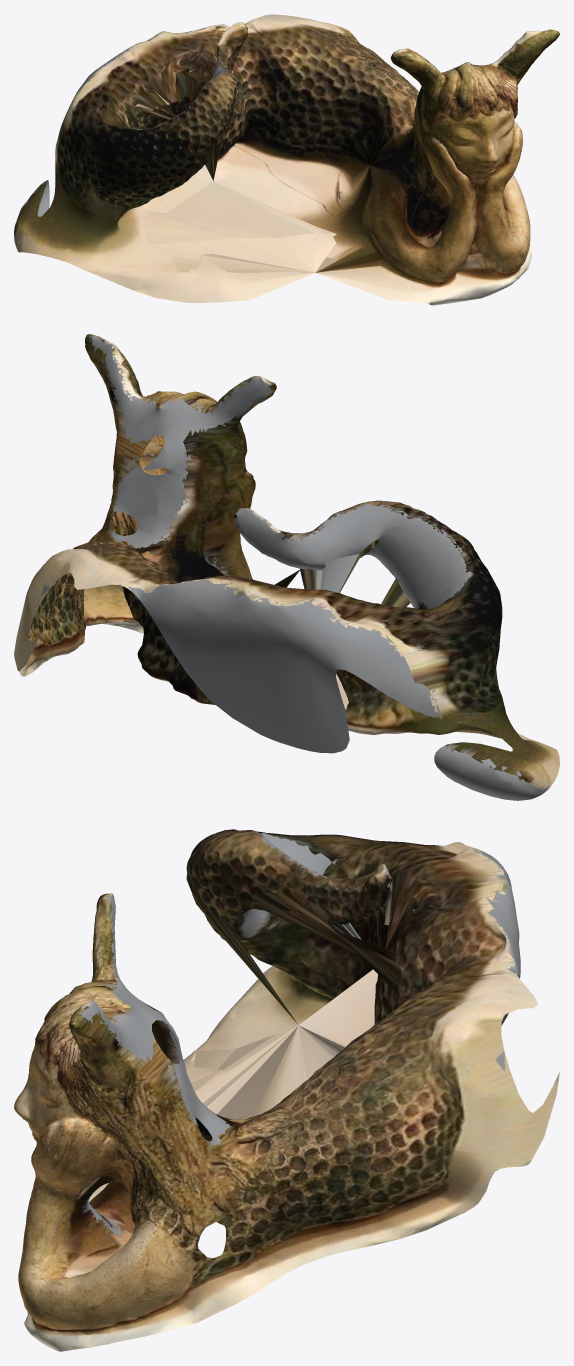
The model's file is wormWoman2.obj.
3 views of the same model, one above another, from view 1: azimuth 30°, elevation 25°; view 2: azimuth 150°, elevation 25°; view 3: azimuth 270°, elevation 25° (orthographic). The views are drawn at different scales.
Visible parts, largest first — view 1: wormWoman; view 2: wormWoman; view 3: wormWoman.
Part boxes in pixels (x1,y1,x2,y2): wormWoman: [14, 14, 559, 305]; wormWoman: [14, 334, 559, 800]; wormWoman: [14, 829, 559, 1351].
Size of the model in its own units: 22.42 by 11.75 by 14.95.
1 material, 1 textured.
